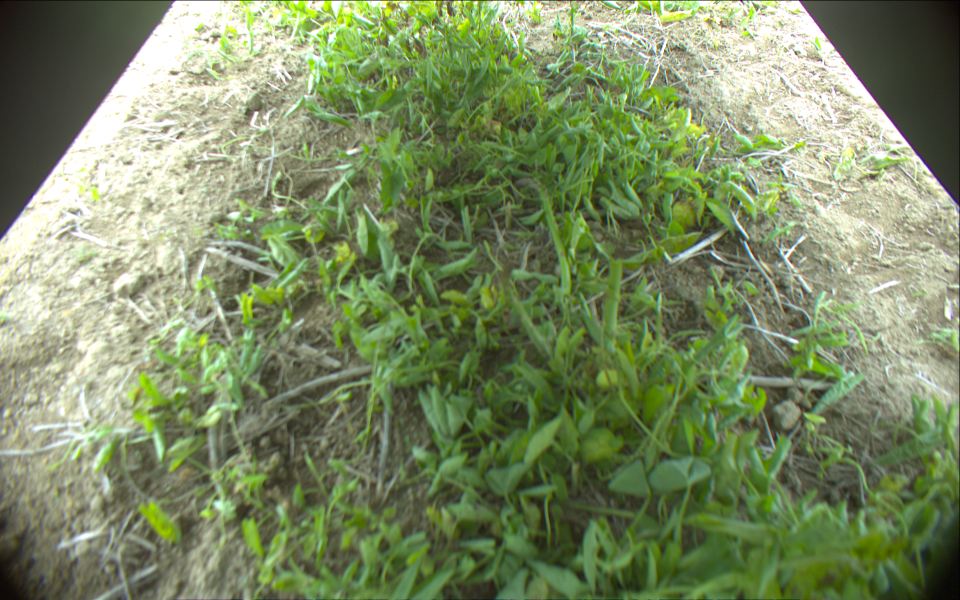aspa: (518, 179, 573, 294), (603, 258, 624, 353)
